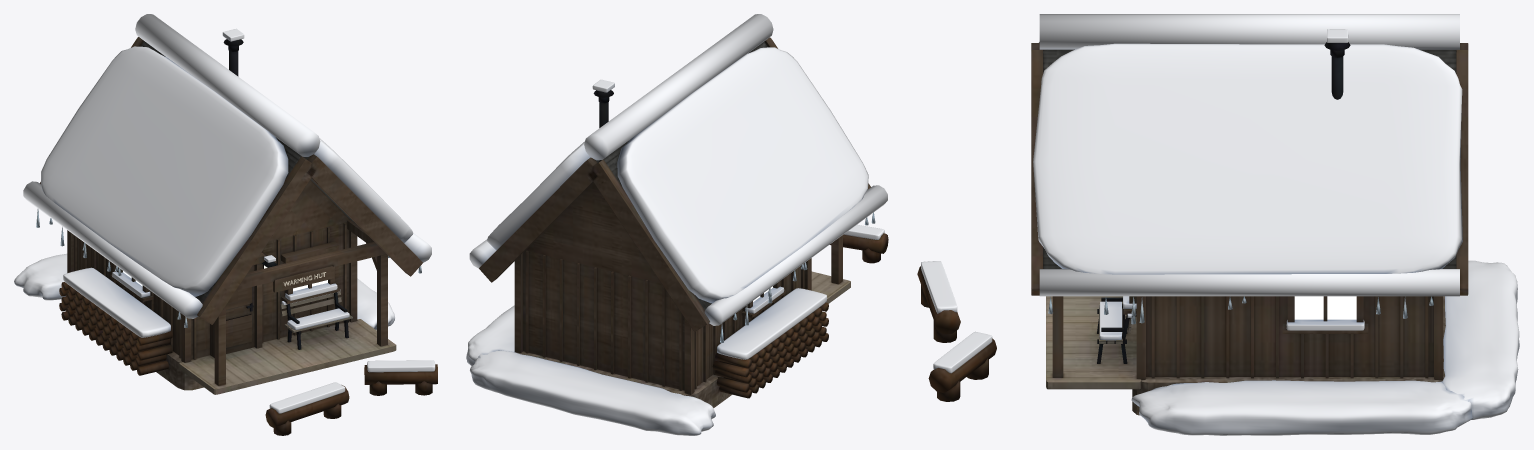
Rendered from warming_hut.glb.
3 views of the same model, side by side, from view 1: azimuth 30°, elevation 25°; view 2: azimuth 150°, elevation 25°; view 3: azimuth 270°, elevation 25° (orthographic). The views are drawn at different scales.
Visible parts, largest first — view 1: warming_hut_snow, warming_hut; view 2: warming_hut_snow, warming_hut; view 3: warming_hut_snow, warming_hut, warming_hut_lit.
Boxes of the visible parts, box(x1,y1,x2,y2) form: warming_hut_snow: box(14, 14, 435, 413); warming_hut: box(36, 37, 437, 435); warming_hut_snow: box(466, 14, 887, 435); warming_hut: box(479, 37, 888, 407); warming_hut_snow: box(921, 14, 1519, 435); warming_hut: box(917, 42, 1468, 415); warming_hut_lit: box(1294, 296, 1356, 319).
Bounding box in the file's own units: 6.62 × 6.57 × 10.13.
5 materials, 1 textured.
